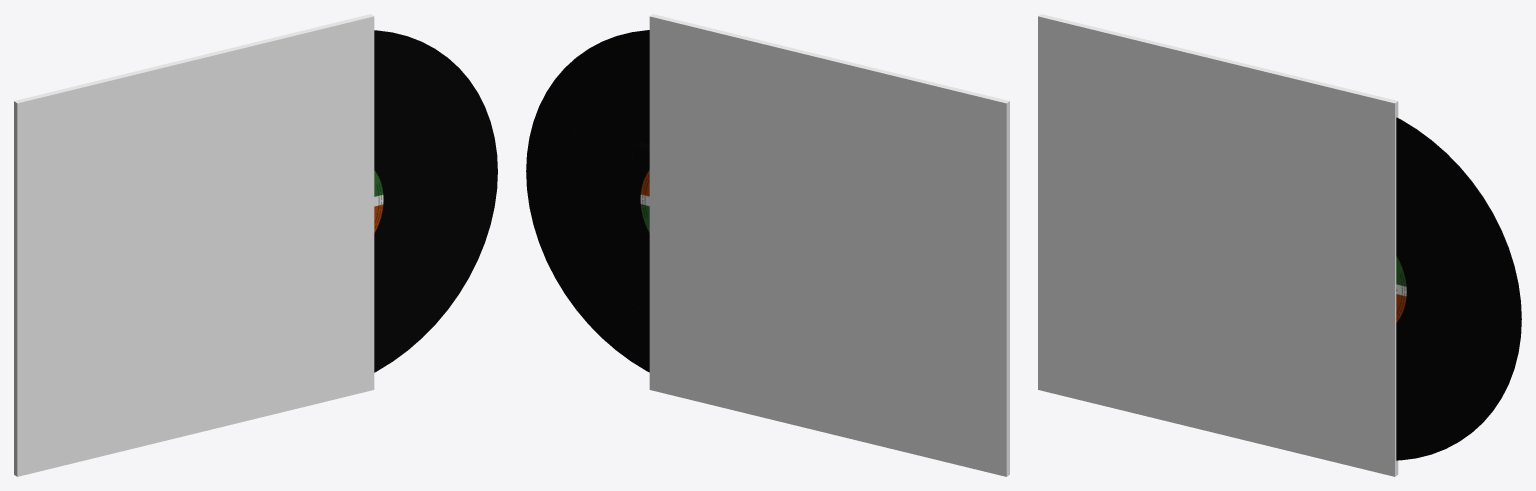
File: vinyl_record_sleeve.glb
The picture shows the model from 3 angles, left to right: view 1: azimuth 30°, elevation 25°; view 2: azimuth 150°, elevation 25°; view 3: azimuth 330°, elevation 25°; orthographic projection.
Parts seen in each view (by area): view 1: Shrinkwrap, #REC0002_33_Highway_To_Hell; view 2: Shrinkwrap, #REC0002_33_Highway_To_Hell; view 3: Shrinkwrap, #REC0002_33_Highway_To_Hell.
Boxes of the visible parts, box(x1,y1,x2,y2) form: Shrinkwrap: box(14, 14, 374, 476); #REC0002_33_Highway_To_Hell: box(374, 30, 497, 372); Shrinkwrap: box(649, 14, 1009, 476); #REC0002_33_Highway_To_Hell: box(526, 30, 649, 372); Shrinkwrap: box(1038, 14, 1398, 476); #REC0002_33_Highway_To_Hell: box(1396, 117, 1521, 460).
Size of the model in its own units: 0.4252 by 0.3149 by 0.00501.
Materials: 3 (2 with a texture image).
